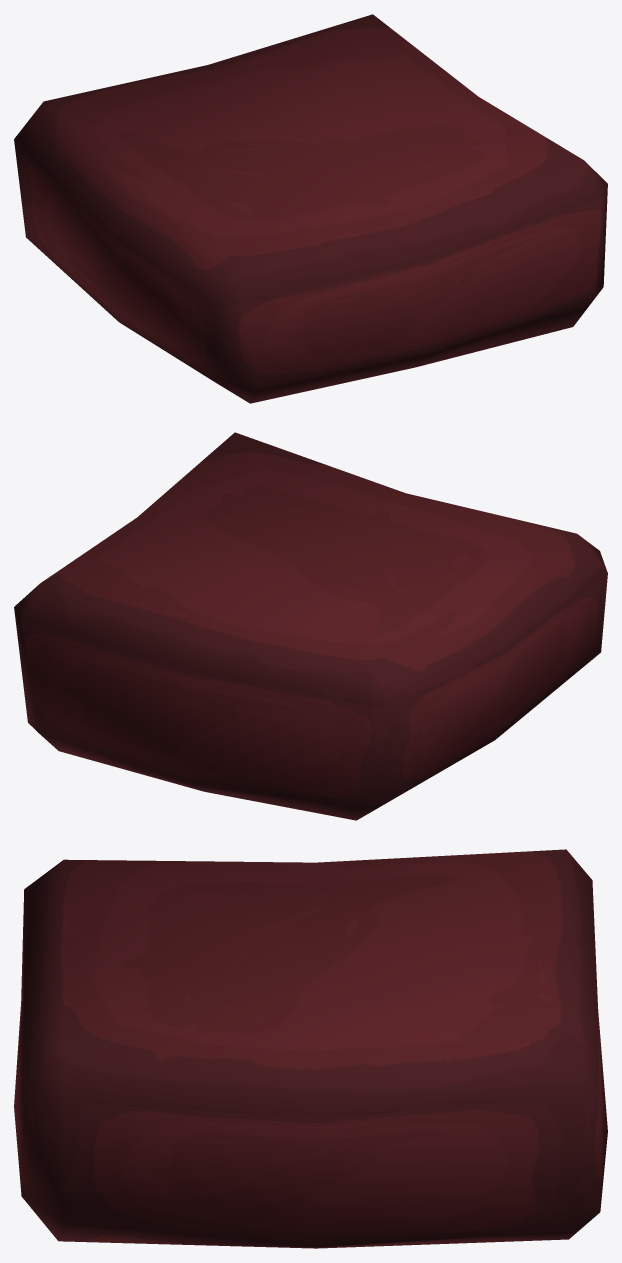
The model's file is SM_PROP_sofa_cushion_interior_02.fbx.
The picture shows the model from 3 angles, top to bottom: view 1: azimuth 30°, elevation 25°; view 2: azimuth 150°, elevation 25°; view 3: azimuth 270°, elevation 25°; orthographic projection. The views are drawn at different scales.
Visible parts, largest first — view 1: SM_PROP_sofa_cushion_interior_02; view 2: SM_PROP_sofa_cushion_interior_02; view 3: SM_PROP_sofa_cushion_interior_02.
Boxes of the visible parts, x1,y1,x2,y2 form: SM_PROP_sofa_cushion_interior_02: [14, 14, 607, 403]; SM_PROP_sofa_cushion_interior_02: [14, 432, 607, 820]; SM_PROP_sofa_cushion_interior_02: [14, 849, 607, 1248].
Bounding box in the file's own units: 63.24 × 25.48 × 65.07.
